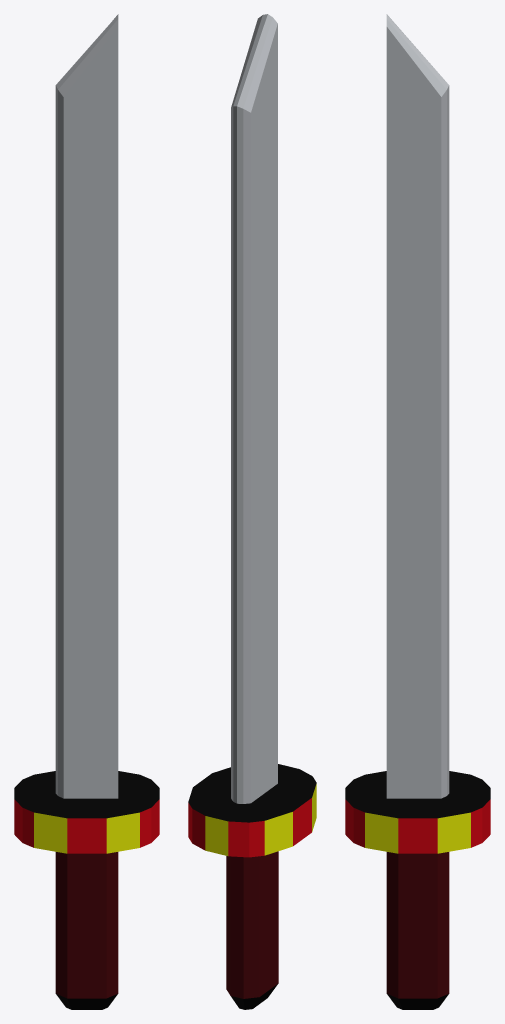
Rendered from Katana_3DModel_4.fbx.
The picture shows the model from 3 angles, left to right: view 1: azimuth 90°, elevation 25°; view 2: azimuth 150°, elevation 25°; view 3: azimuth 270°, elevation 25°; orthographic projection.
Visible parts, largest first — view 1: Sword; view 2: Sword; view 3: Sword.
Part boxes in pixels (left/top/right/bottom): Sword: left=14, top=14, right=159, bottom=1009; Sword: left=188, top=14, right=316, bottom=1009; Sword: left=345, top=14, right=490, bottom=1009.
Size of the model in its own units: 0.1125 by 1.05 by 0.1393.
